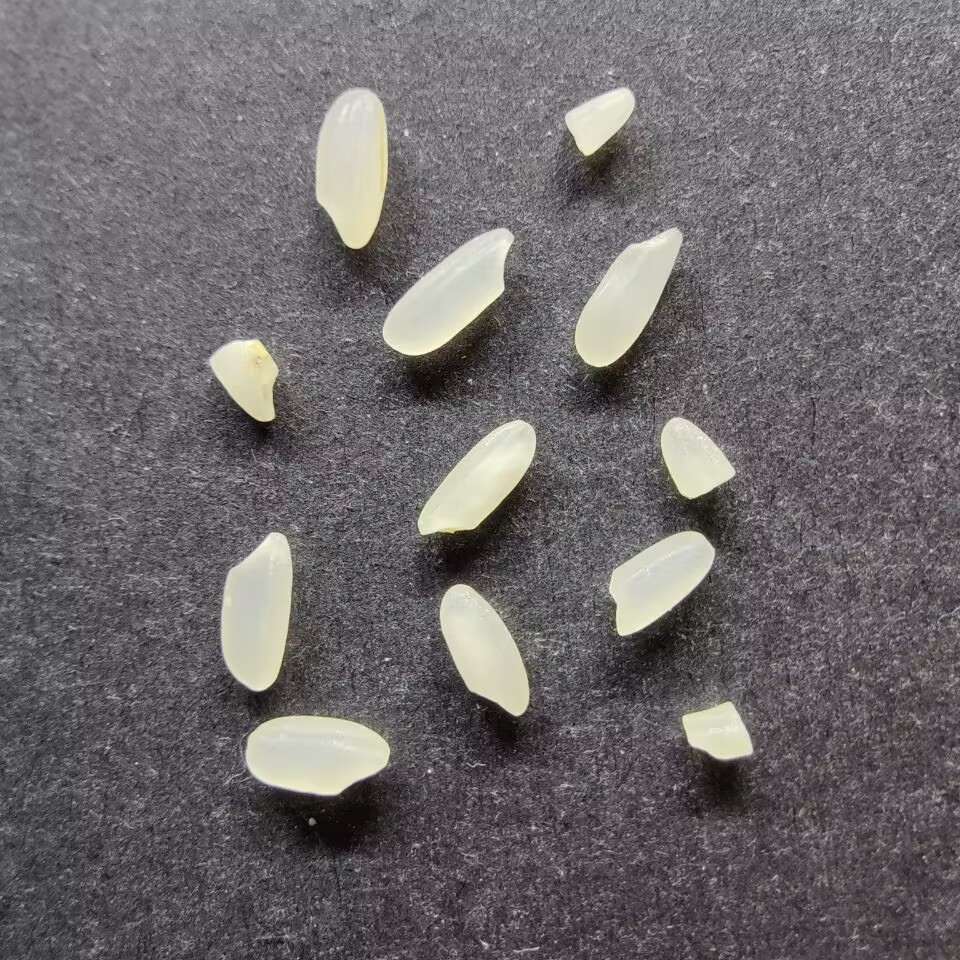broken: (659, 415, 736, 500), (207, 337, 280, 424), (563, 86, 636, 157), (680, 700, 754, 761)
rice: (381, 226, 514, 356), (573, 225, 683, 368), (414, 418, 537, 537), (438, 583, 531, 716), (313, 88, 388, 250), (244, 714, 390, 797), (219, 530, 293, 691), (607, 529, 716, 636)
